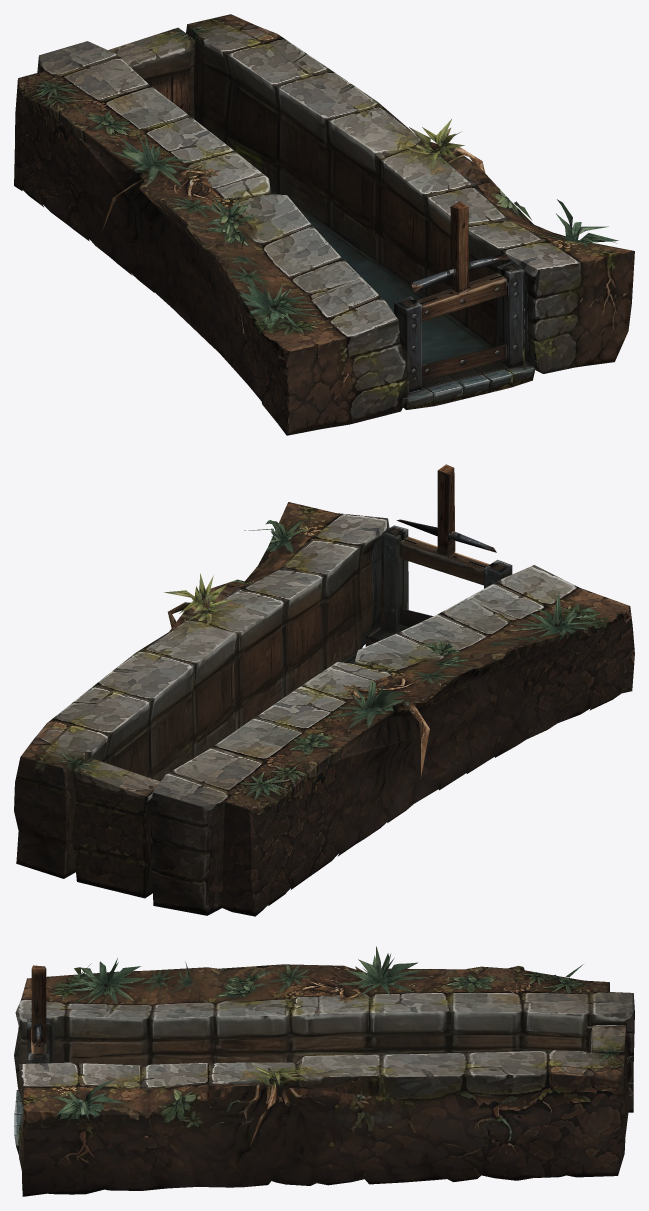
The model's file is act1_extras_v1_irrigation_channel.glb.
3 views of the same model, one above another, from view 1: azimuth 30°, elevation 25°; view 2: azimuth 150°, elevation 25°; view 3: azimuth 270°, elevation 25° (orthographic). The views are drawn at different scales.
Parts seen in each view (by area): view 1: A20_5_irrigation_channel; view 2: A20_5_irrigation_channel; view 3: A20_5_irrigation_channel.
Boxes of the visible parts, box(x1,y1,x2,y2) form: A20_5_irrigation_channel: box(14, 14, 634, 435); A20_5_irrigation_channel: box(14, 464, 634, 916); A20_5_irrigation_channel: box(14, 946, 634, 1196).
Bounding box in the file's own units: 0.604 × 0.2954 × 0.9995.
Materials: 1 (1 with a texture image).
